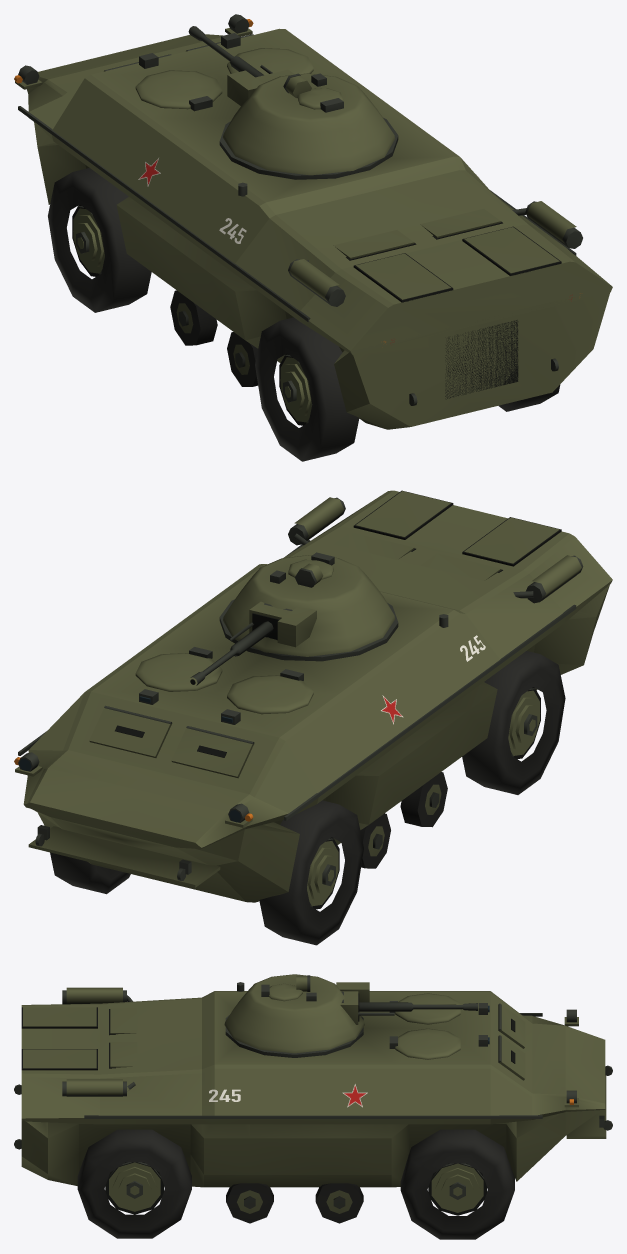
Rendered from brdm2_lod1.glb.
The picture shows the model from 3 angles, top to bottom: view 1: azimuth 30°, elevation 25°; view 2: azimuth 150°, elevation 25°; view 3: azimuth 270°, elevation 25°; orthographic projection. The views are drawn at different scales.
Visible parts, largest first — view 1: Hull_BRDM2_Paint, LeftTrack_Motion_BRDM2_Rubber, TurretYaw_BRDM2_Paint, Hull_BRDM2_DarkSteel, Hull_BRDM2_Cavity, LeftTrack_Motion_BRDM2_Paint, Hull_BRDM2_Rubber, GunPitch_BRDM2_Paint, BarrelRecoil_BRDM2_DarkSteel; view 2: Hull_BRDM2_Paint, LeftTrack_Motion_BRDM2_Rubber, TurretYaw_BRDM2_Paint, Hull_BRDM2_DarkSteel, LeftTrack_Motion_BRDM2_Paint, Hull_BRDM2_Rubber, RightTrack_Motion_BRDM2_Rubber, Hull_BRDM2_Cavity, GunPitch_BRDM2_Paint, BarrelRecoil_BRDM2_DarkSteel, TurretYaw_BRDM2_DarkSteel; view 3: Hull_BRDM2_Paint, RightTrack_Motion_BRDM2_Rubber, TurretYaw_BRDM2_Paint, Hull_BRDM2_DarkSteel, RightTrack_Motion_BRDM2_Paint, Hull_BRDM2_Rubber, BarrelRecoil_BRDM2_DarkSteel, RightTrack_Motion_BRDM2_Cavity, Hull_BRDM2_Cavity, RightTrack_Motion_BRDM2_DarkSteel, GunPitch_BRDM2_Paint.
Boxes of the visible parts, x1,y1,x2,y2 form: Hull_BRDM2_Paint: (15,28,612,429); LeftTrack_Motion_BRDM2_Rubber: (48,168,359,461); TurretYaw_BRDM2_Paint: (223,69,395,175); Hull_BRDM2_DarkSteel: (18,14,582,405); Hull_BRDM2_Cavity: (346,221,561,399); LeftTrack_Motion_BRDM2_Paint: (73,208,311,422); Hull_BRDM2_Rubber: (170,290,257,386); GunPitch_BRDM2_Paint: (227,70,262,105); BarrelRecoil_BRDM2_DarkSteel: (188,26,263,77); Hull_BRDM2_Paint: (15,490,612,902); LeftTrack_Motion_BRDM2_Rubber: (259,651,565,945); TurretYaw_BRDM2_Paint: (223,555,395,656); Hull_BRDM2_DarkSteel: (18,497,583,880); LeftTrack_Motion_BRDM2_Paint: (307,690,540,906); Hull_BRDM2_Rubber: (360,772,447,868); RightTrack_Motion_BRDM2_Rubber: (50,852,130,894); Hull_BRDM2_Cavity: (115,490,561,757); GunPitch_BRDM2_Paint: (277,607,316,647); BarrelRecoil_BRDM2_DarkSteel: (190,621,273,685); TurretYaw_BRDM2_DarkSteel: (270,552,334,587); Hull_BRDM2_Paint: (21,987,606,1213); RightTrack_Motion_BRDM2_Rubber: (77,1129,514,1239); TurretYaw_BRDM2_Paint: (224,974,364,1053); Hull_BRDM2_DarkSteel: (14,982,612,1208); RightTrack_Motion_BRDM2_Paint: (109,1162,483,1212); Hull_BRDM2_Rubber: (226,1183,363,1223); BarrelRecoil_BRDM2_DarkSteel: (359,1002,477,1011); RightTrack_Motion_BRDM2_Cavity: (105,1162,487,1215); Hull_BRDM2_Cavity: (21,1007,515,1070); RightTrack_Motion_BRDM2_DarkSteel: (108,1162,483,1199); GunPitch_BRDM2_Paint: (336,982,369,1002).
Size of the model in its own units: 2.35 by 2.26 by 5.75.
8 materials, 1 textured.
